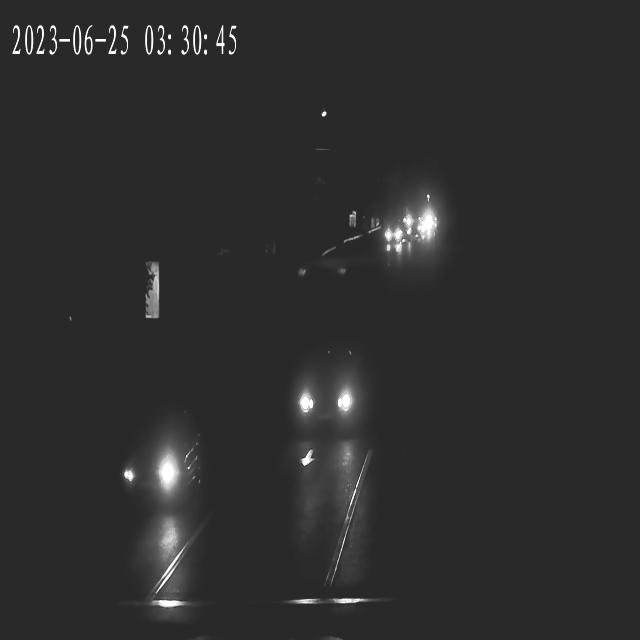Car: (108, 398, 208, 521), (284, 346, 370, 438), (382, 226, 405, 247), (408, 222, 432, 240), (412, 221, 436, 237), (412, 226, 434, 243), (398, 215, 414, 228)
